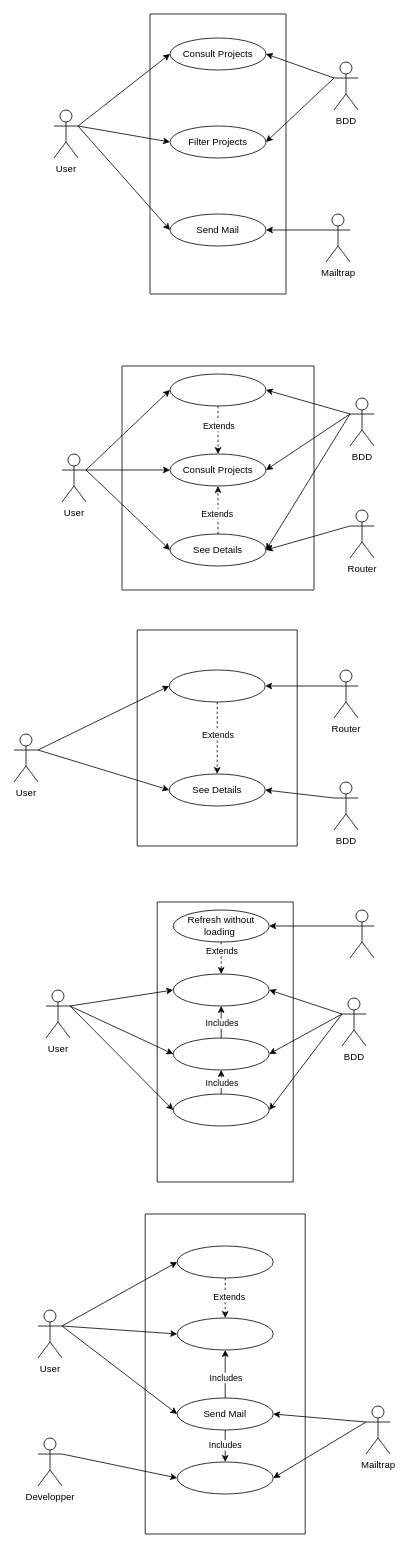
Some shapes in this 409 by 1548 pixel diagram are drawn without their labels. Each missing label, with the centre of its shape:
Choose filters: (220,989)
Complete form: (224,1333)
Filter Project: (220,1109)
Go Back to main page: (216,685)
Livewire: (361,933)
Open Menu: (220,1053)
Receive Mail: (224,1477)
Send form: (224,1261)
Use paging: (217,389)
